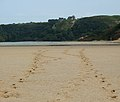human_foot_print: (10, 49, 117, 101), (65, 49, 110, 91), (80, 50, 117, 98), (19, 51, 60, 83), (50, 73, 85, 101), (0, 74, 27, 97), (0, 78, 19, 98), (0, 85, 19, 97)
